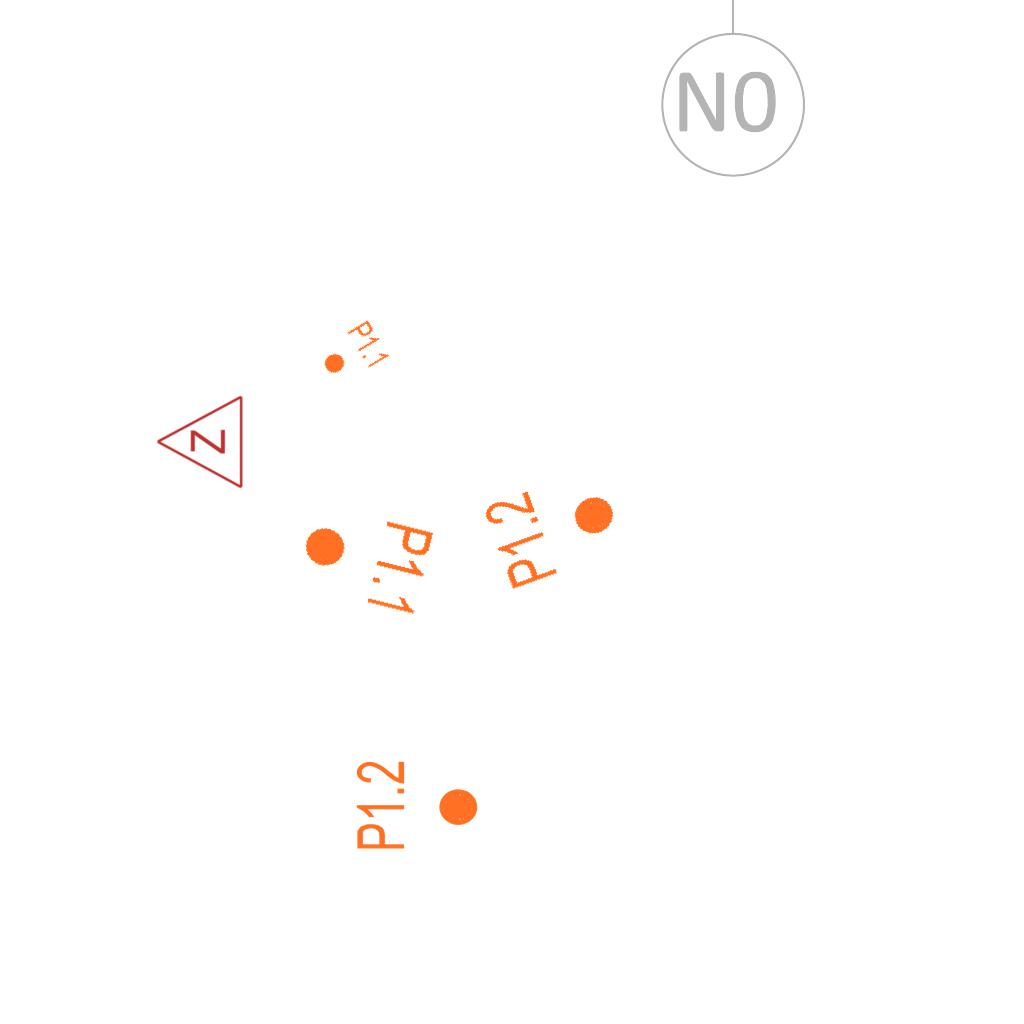Downlight_LED_Einbauleuchten_Flur: (478, 462, 631, 594), (291, 499, 438, 621), (353, 759, 481, 852), (313, 317, 393, 391)
Zimmersignalleuchte: (150, 394, 250, 492)
